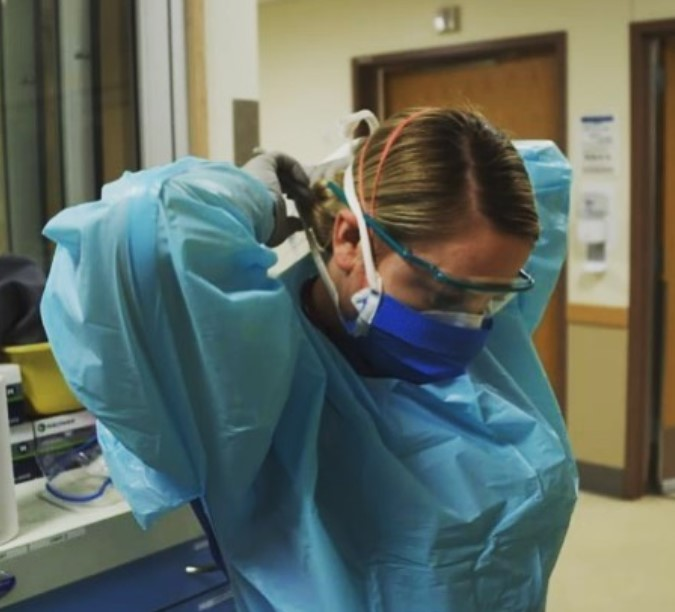face_with_mask: (321, 114, 535, 385)
